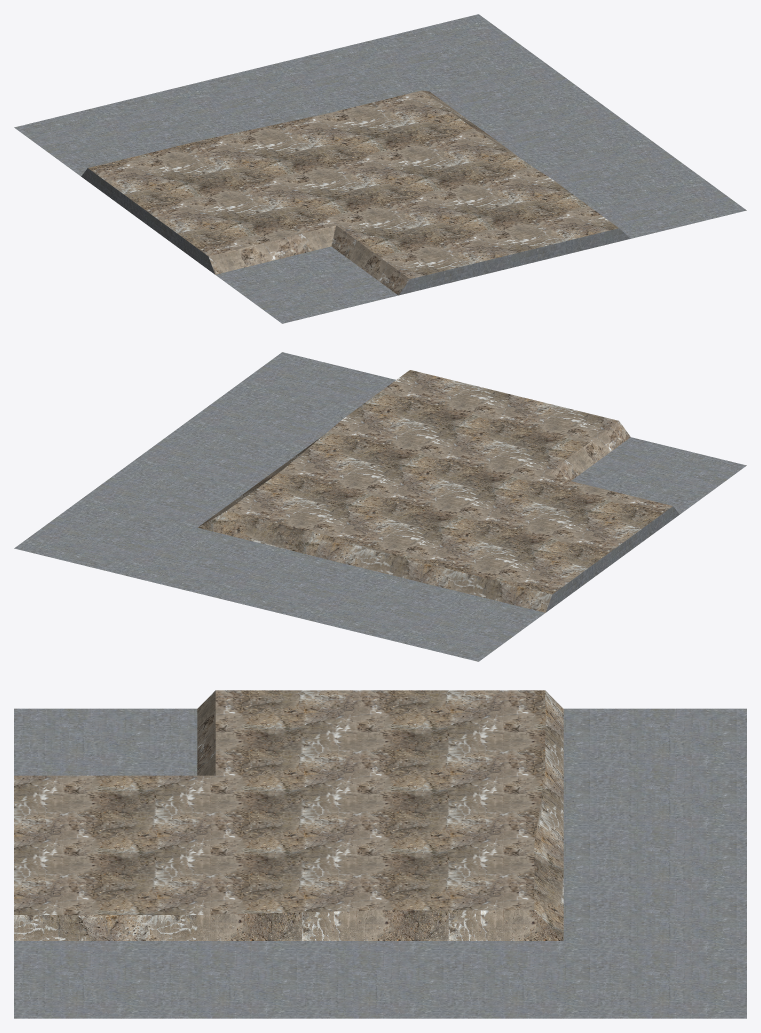
3 renders of one model, top to bottom at view 1: azimuth 30°, elevation 25°; view 2: azimuth 150°, elevation 25°; view 3: azimuth 270°, elevation 25°, orthographic. The views are drawn at different scales.
Visible parts, largest first — view 1: TexturesCom_ConcreteBare0398_7_seamless_S, TexturesCom_ConcreteRough0076_1_seamless_S; view 2: TexturesCom_ConcreteRough0076_1_seamless_S, TexturesCom_ConcreteBare0398_7_seamless_S; view 3: TexturesCom_ConcreteRough0076_1_seamless_S, TexturesCom_ConcreteBare0398_7_seamless_S.
Boxes of the visible parts, <box> form: TexturesCom_ConcreteBare0398_7_seamless_S: <box>14,14,746,323</box>; TexturesCom_ConcreteRough0076_1_seamless_S: <box>88,90,618,295</box>; TexturesCom_ConcreteRough0076_1_seamless_S: <box>197,370,672,612</box>; TexturesCom_ConcreteBare0398_7_seamless_S: <box>14,352,746,661</box>; TexturesCom_ConcreteRough0076_1_seamless_S: <box>14,690,563,940</box>; TexturesCom_ConcreteBare0398_7_seamless_S: <box>14,708,746,1018</box>.
Size of the model in its own units: 5 by 0.1384 by 5.
2 materials, 2 textured.
